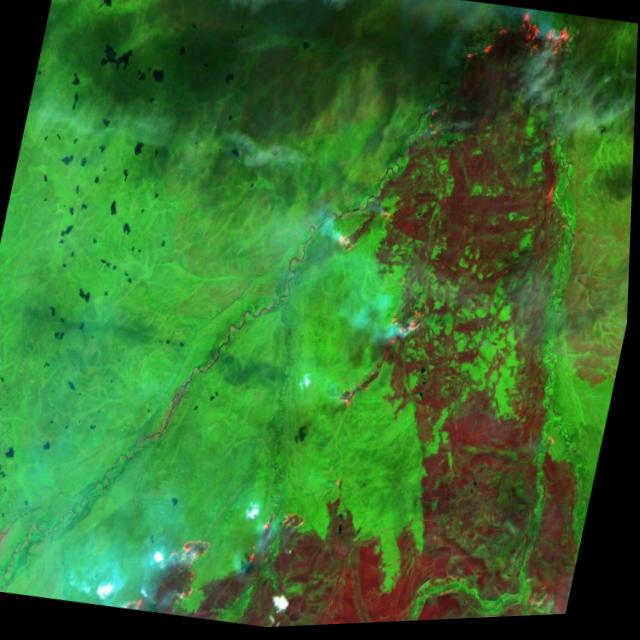fire: (112, 481, 321, 635), (314, 288, 443, 443), (457, 2, 585, 100), (328, 188, 411, 277), (534, 164, 572, 219)
